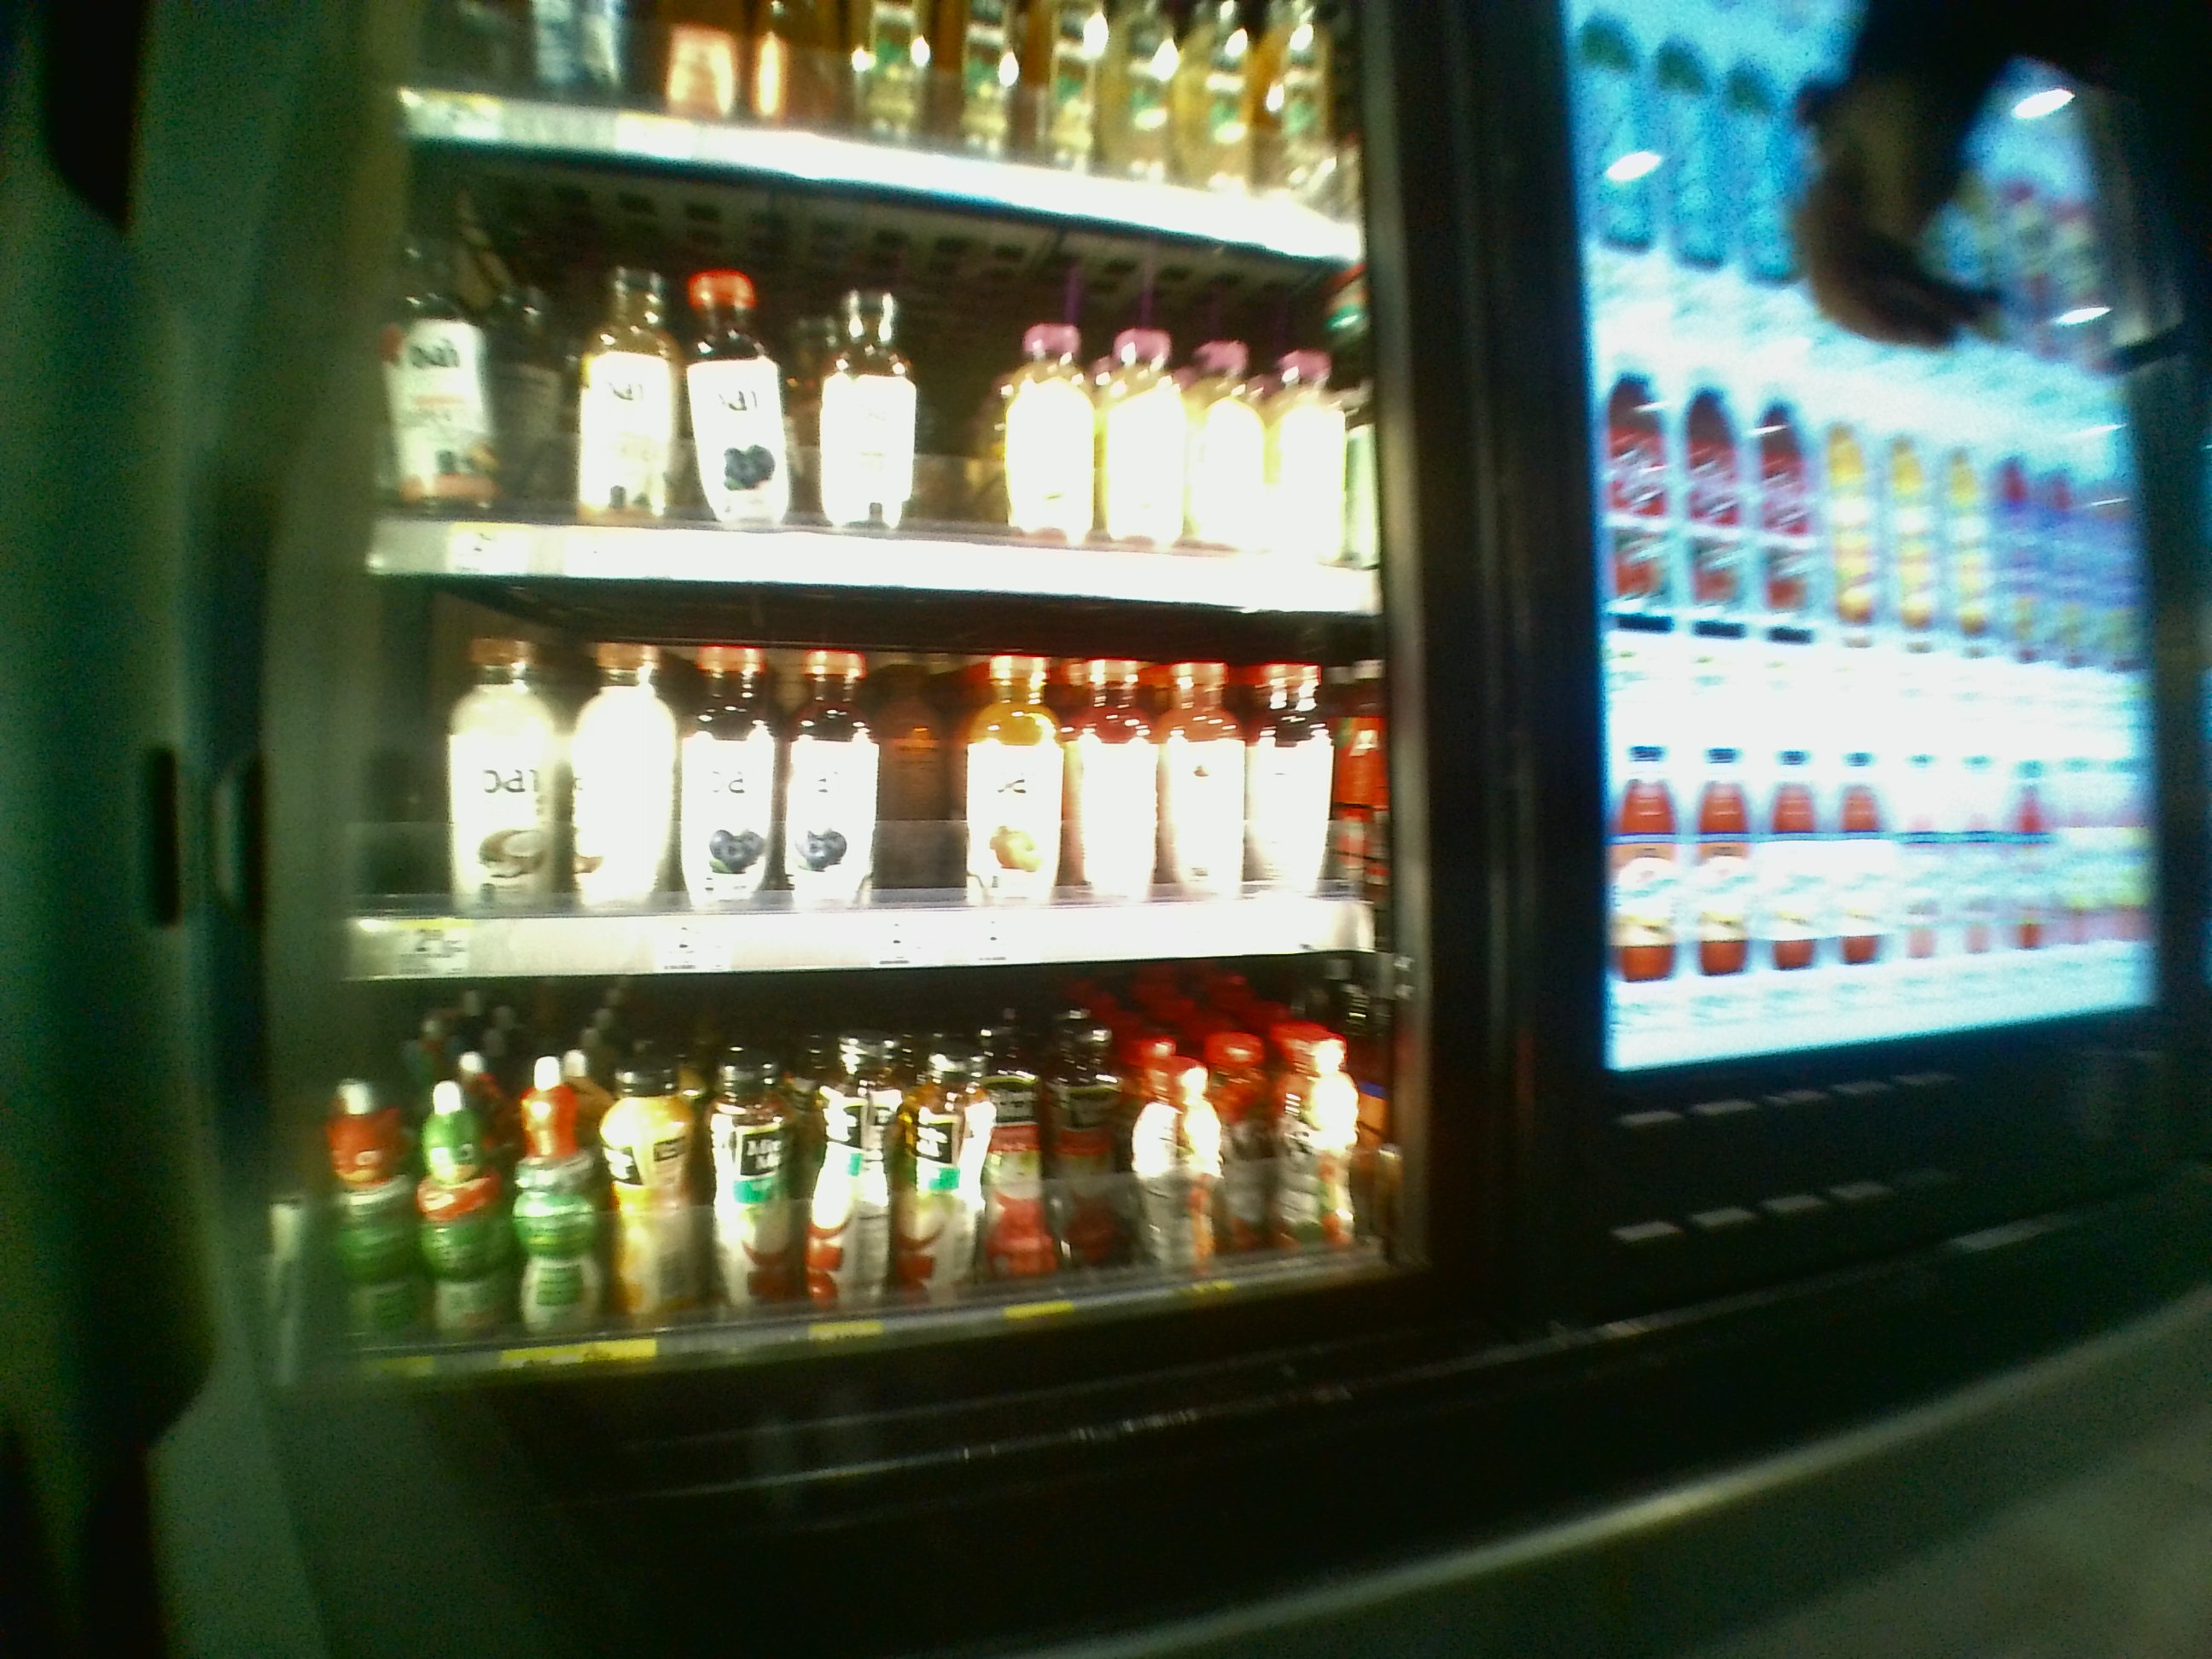shelf: (343, 159, 1372, 603), (341, 617, 1374, 993)
